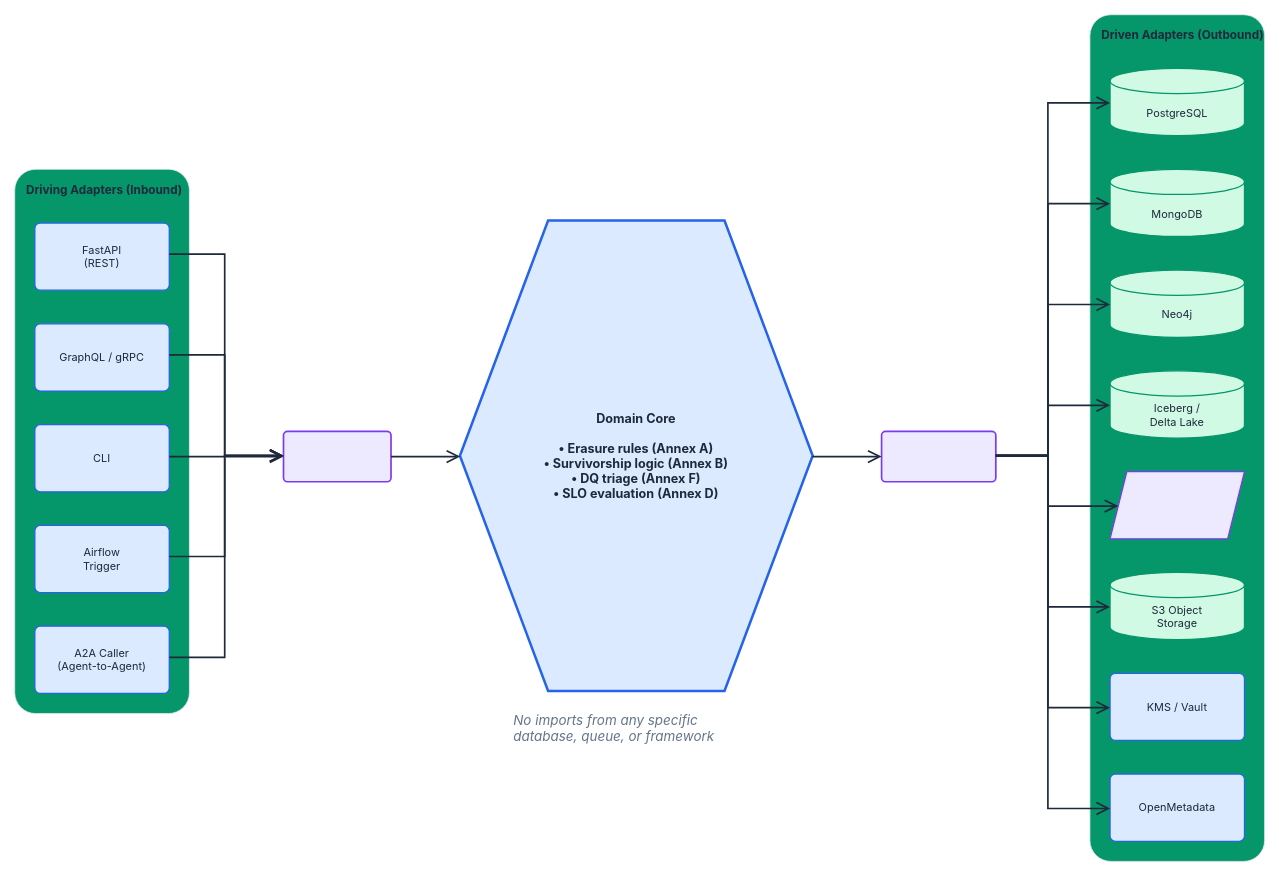
Some shapes in this 1279 by 876 pixel diagram are drawn without their labels. Each missing label, with the centre of its shape:
"Inbound Port" belongs at (336,456).
"Kafka" belongs at (1177,505).
"Outbound Port" belongs at (938,456).
